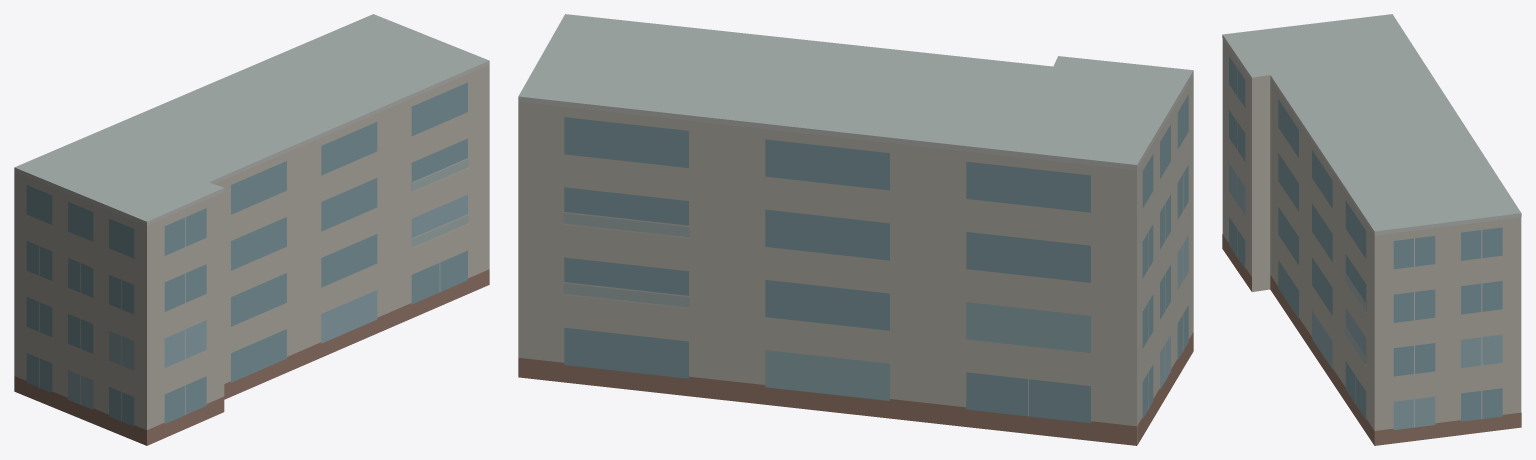
Rendered from survey-upis-32702837.glb.
The picture shows the model from 3 angles, left to right: view 1: azimuth 30°, elevation 25°; view 2: azimuth 150°, elevation 25°; view 3: azimuth 270°, elevation 25°; orthographic projection. The views are drawn at different scales.
Parts seen in each view (by area): view 1: survey-upis-32702837.tmp; view 2: survey-upis-32702837.tmp; view 3: survey-upis-32702837.tmp.
Part boxes in pixels (x1,y1,x2,y2): survey-upis-32702837.tmp: [14, 14, 489, 445]; survey-upis-32702837.tmp: [518, 14, 1193, 445]; survey-upis-32702837.tmp: [1222, 14, 1521, 445].
Bounding box in the file's own units: 28.5 × 13.1 × 16.56.
